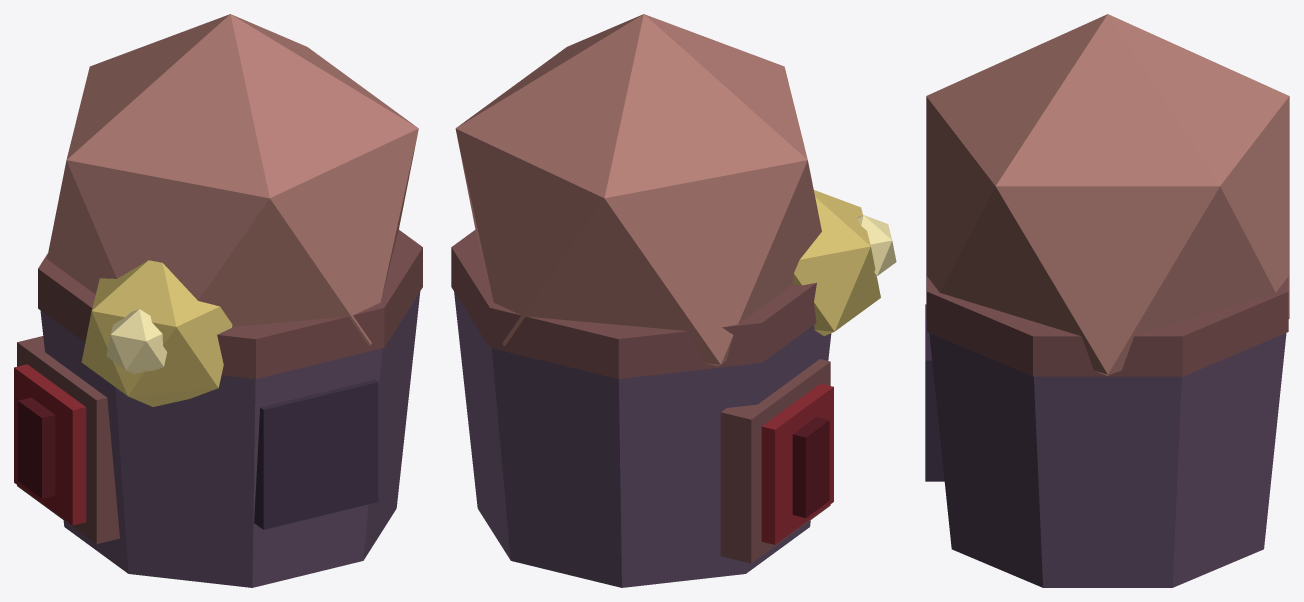
File: inf_v2_brute_upper_arm_r.fbx
3 renders of one model, left to right at view 1: azimuth 30°, elevation 25°; view 2: azimuth 150°, elevation 25°; view 3: azimuth 270°, elevation 25°, orthographic.
Visible parts, largest first — view 1: inf_v2_brute_upper_arm_r; view 2: inf_v2_brute_upper_arm_r; view 3: inf_v2_brute_upper_arm_r.
Boxes of the visible parts, <box> form: inf_v2_brute_upper_arm_r: <box>14,14,422,587</box>; inf_v2_brute_upper_arm_r: <box>451,14,896,587</box>; inf_v2_brute_upper_arm_r: <box>925,14,1289,587</box>.
Size of the model in its own units: 91.93 by 126 by 81.83.
